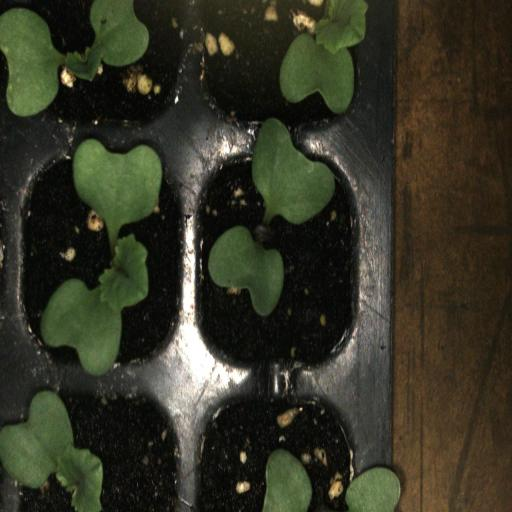seedling: (12, 136, 198, 368), (194, 138, 369, 378), (19, 0, 202, 137)
